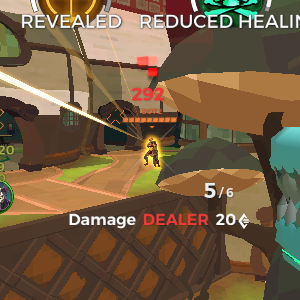model: (143, 135, 163, 169)
